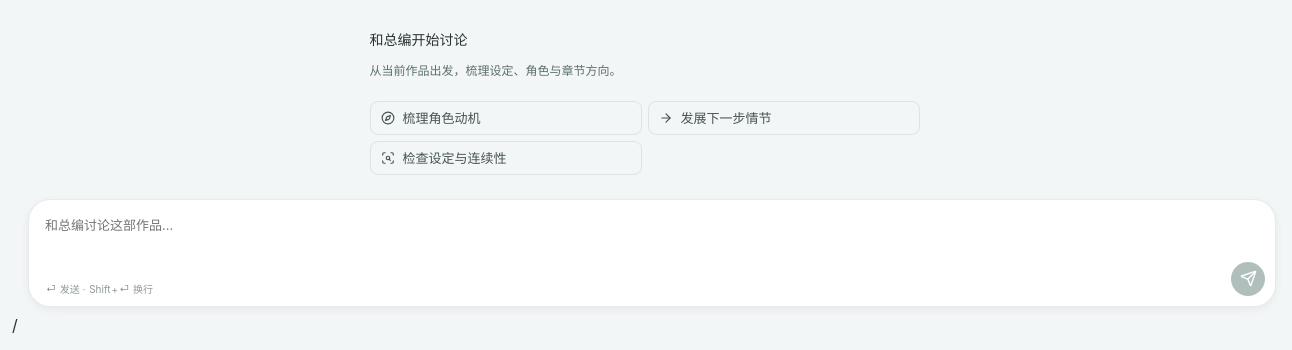
Test: ChatPanel trace integration › marks premature stream closure and re-enables the composer
Type "继续" into the text box named "给 AI 总编的消息" at point(652, 256), box top-left (29, 210), bottom-right (1275, 302)
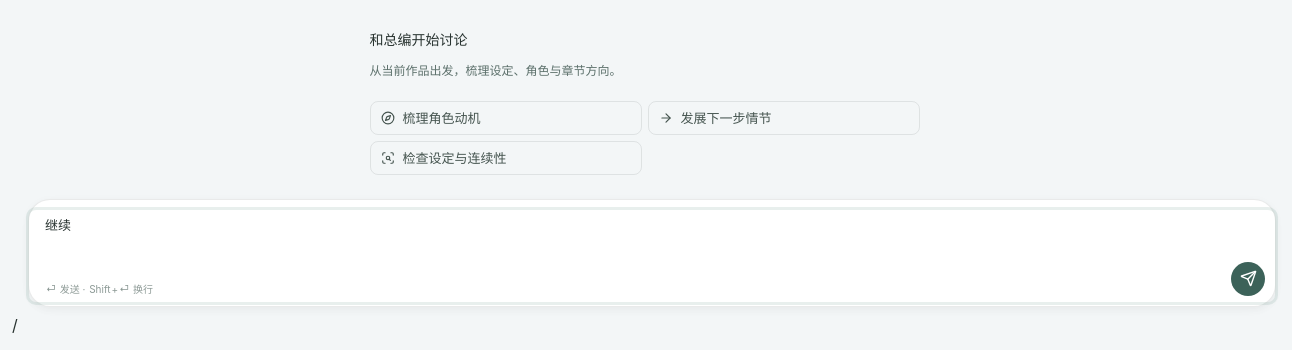
Click the button named "发送消息" at point(1248, 279), box top-left (1231, 262), bottom-right (1265, 296)
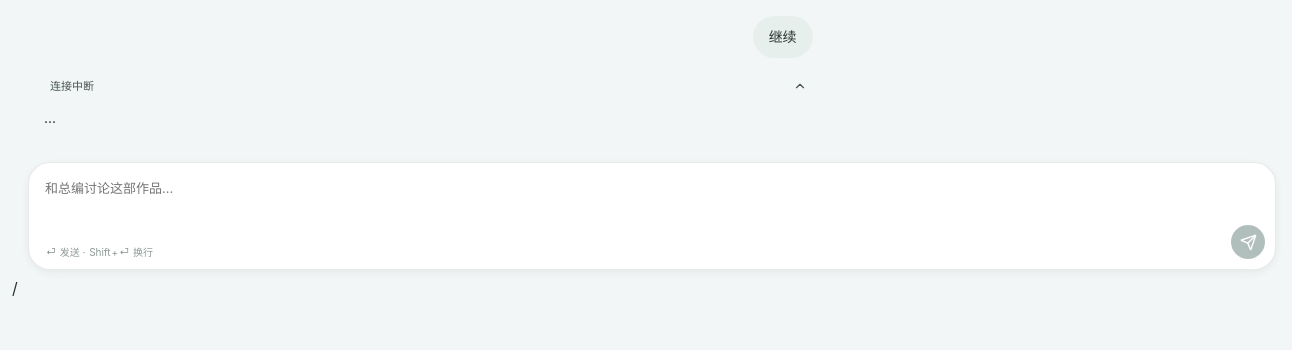
Expected: the text box named "给 AI 总编的消息" is enabled, top-left (29, 173), bottom-right (1275, 265)
Expected: the text "连接中断" is shown, top-left (50, 79), bottom-right (94, 93)
